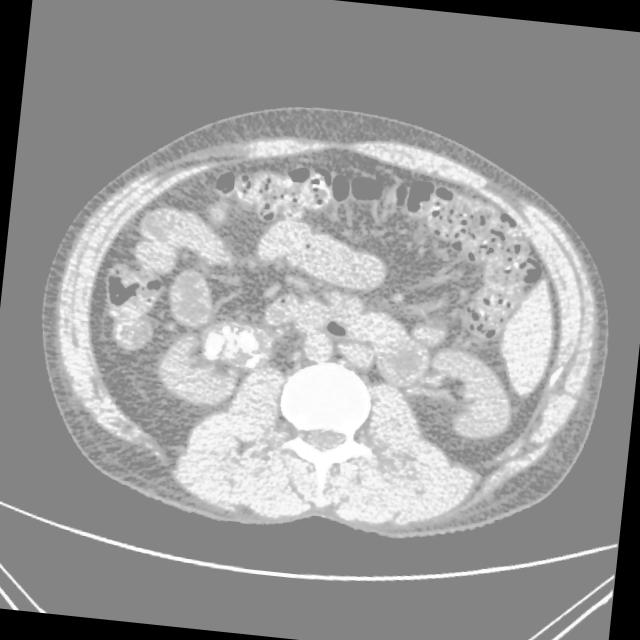STONE: (64, 129, 423, 424)
